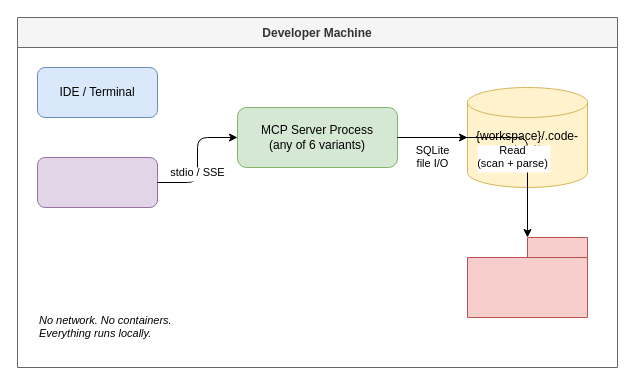
Some shapes in this 635 by 385 pixel diagram are drawn without their labels. The centre of each missing label's shape, as x and y in pixels:
AI Agent (Kiro): the point at 97,182
Workspace Files (source code): the point at 527,277
